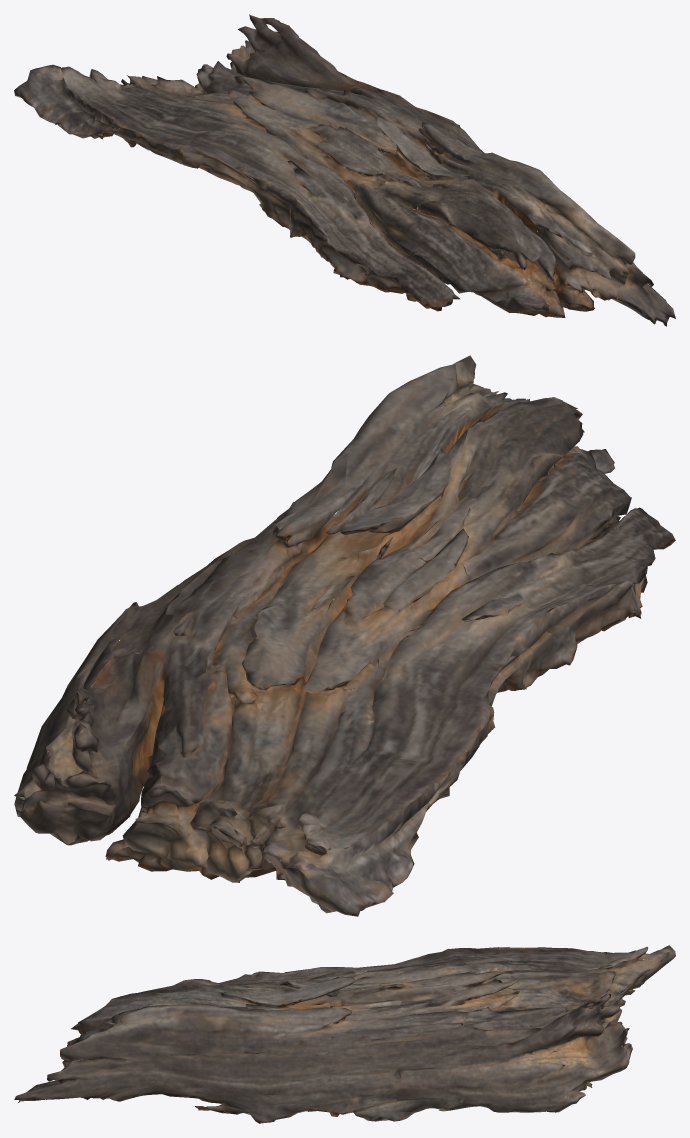
The model's file is bark_debris_01_a.glb.
The picture shows the model from 3 angles, top to bottom: view 1: azimuth 30°, elevation 25°; view 2: azimuth 150°, elevation 25°; view 3: azimuth 270°, elevation 25°; orthographic projection. The views are drawn at different scales.
Parts seen in each view (by area): view 1: bark_debris_01_a; view 2: bark_debris_01_a; view 3: bark_debris_01_a.
Part boxes in pixels (<box>): bark_debris_01_a: <box>14,14,675,326</box>; bark_debris_01_a: <box>14,355,675,916</box>; bark_debris_01_a: <box>14,945,675,1123</box>.
Bounding box in the file's own units: 0.1874 × 0.0657 × 0.3983.
Materials: 1 (1 with a texture image).
